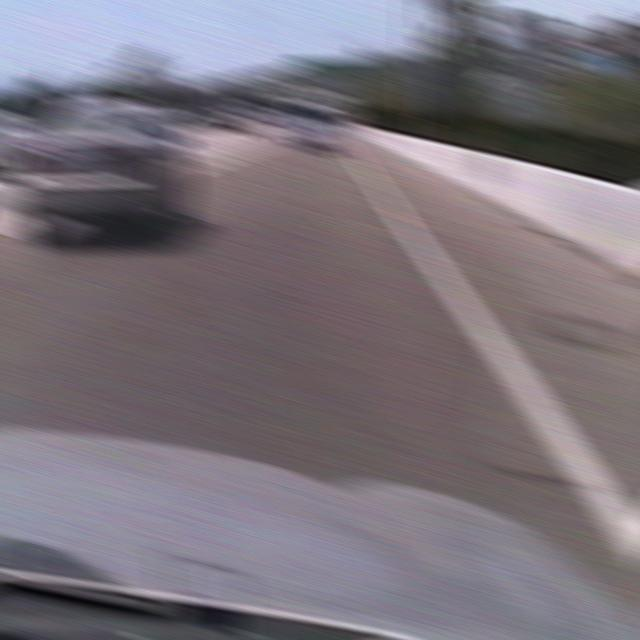speedLimit65: (500, 8, 560, 89)
